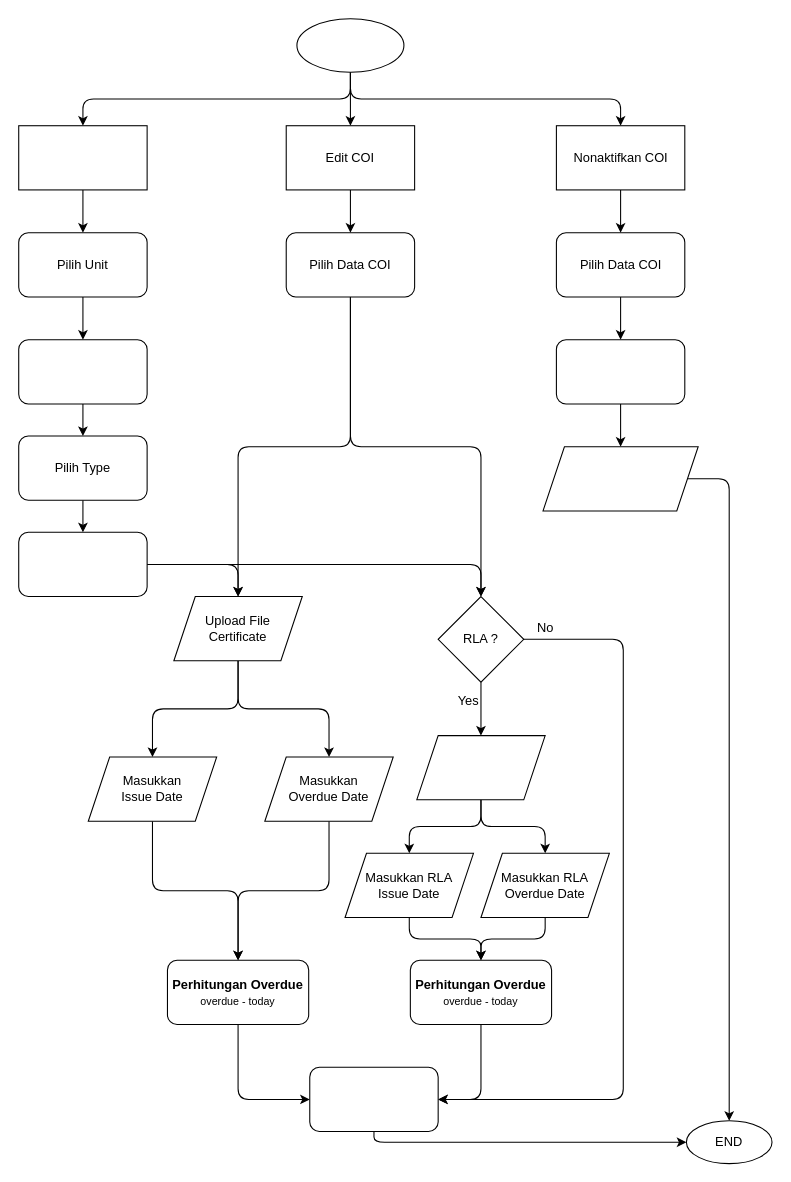
The diagram is 791 pixels wide and 1182 high, and some of its shapes have lost their labels. The shapes that lost their labels are listed below. From the top down, each one's centre as x and y in pixels, then its label:
At (x=350, y=45): "START".
At (x=82, y=157): "Tambah COI".
At (x=82, y=371): "Pilih Category".
At (x=620, y=371): "Klik Nonaktifkan".
At (x=620, y=478): "Pesan COI Berhasil Dinonaktifkan".
At (x=82, y=564): "Pilih Tag Number".
At (x=480, y=767): "Upload File Certificate RLA".
At (x=373, y=1099): "Simpan".
